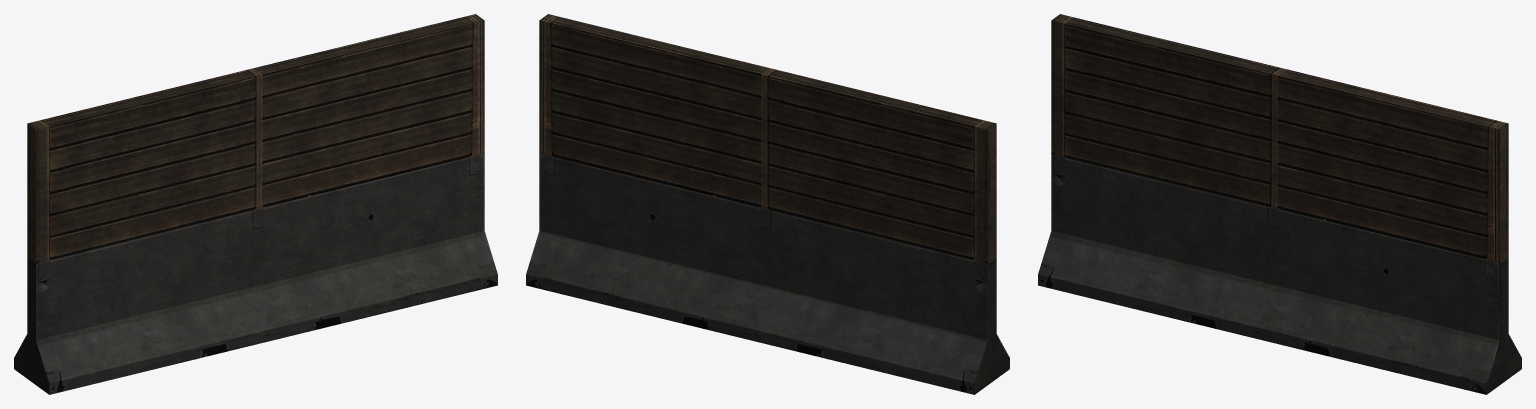
File: barricade_b_2.dae
3 views of the same model, side by side, from view 1: azimuth 30°, elevation 25°; view 2: azimuth 150°, elevation 25°; view 3: azimuth 330°, elevation 25° (orthographic).
Visible parts, largest first — view 1: barricade_b_2; view 2: barricade_b_2; view 3: barricade_b_2.
Boxes of the visible parts, x1,y1,x2,y2 form: barricade_b_2: (14, 14, 497, 394); barricade_b_2: (526, 14, 1009, 394); barricade_b_2: (1038, 14, 1521, 394).
Size of the model in its own units: 2.94 by 0.4 by 1.6.
1 material, 1 textured.
